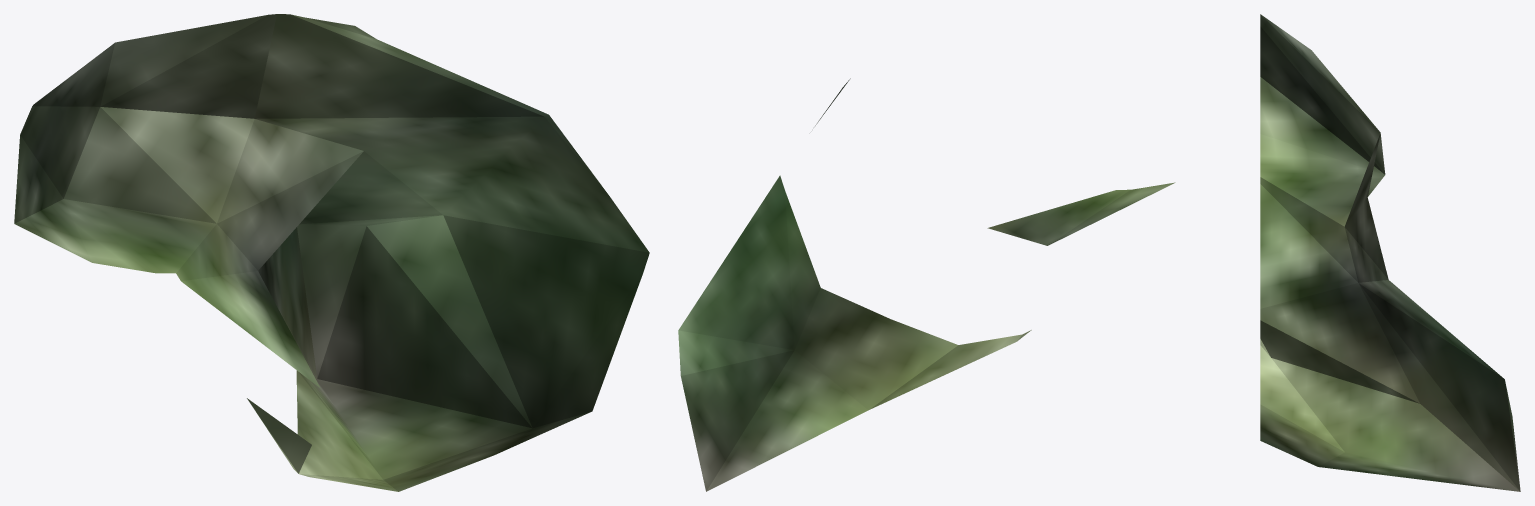
3 renders of one model, left to right at view 1: azimuth 30°, elevation 25°; view 2: azimuth 150°, elevation 25°; view 3: azimuth 270°, elevation 25°, orthographic. The views are drawn at different scales.
Bounding box in the file's own units: 14.7 × 12.31 × 8.75.
Materials: 1 (1 with a texture image).
